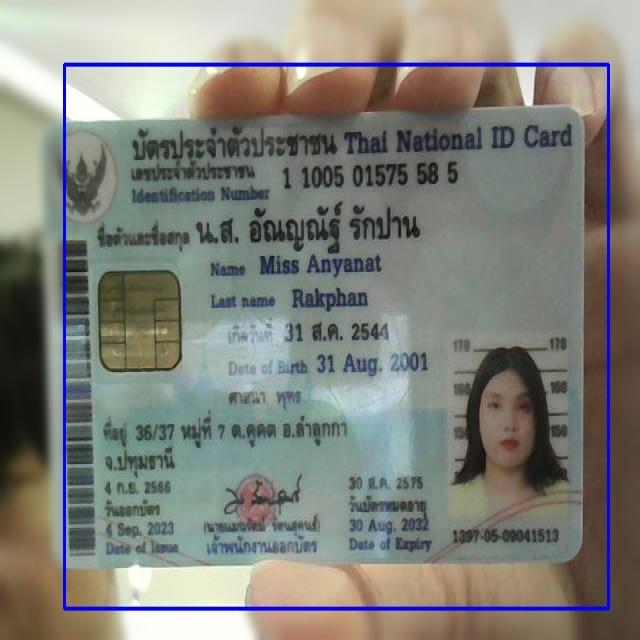Address_th: (98, 407, 357, 481)
Date_of_Birth: (314, 348, 434, 382)
Date_of_Expiry: (340, 513, 436, 537)
Date_of_Issue: (101, 517, 183, 540)
First_Name: (256, 250, 384, 280)
ID_Number: (278, 158, 464, 194)
Image: (450, 334, 566, 522)
Last_Name: (289, 284, 371, 314)
Thai_Name: (194, 198, 433, 255)
